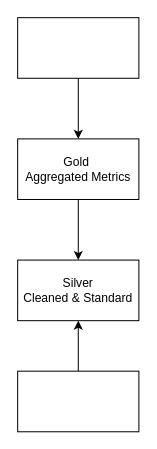
Some shapes in this 157 by 449 pixel diagram are drawn without their labels. The centre of each missing label's shape, as x and y in pixels:
"Bronze Raw data" belongs at (78,401).
"Power BI / Apps Business Dashboard" belongs at (78,47).
